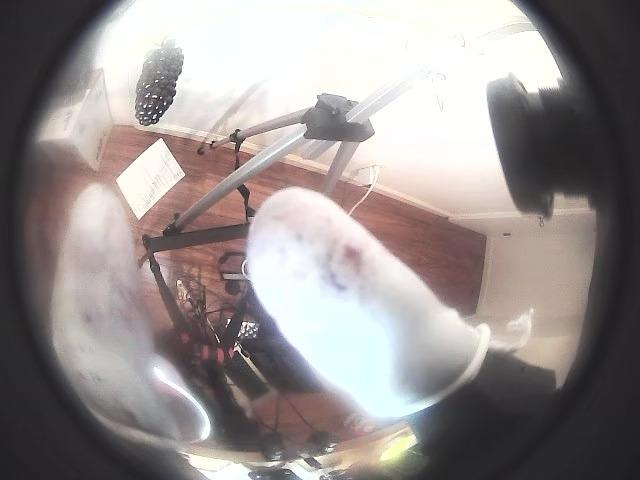berry: (135, 47, 181, 124)
gripper: (246, 187, 495, 423), (23, 157, 210, 447)
lense: (432, 0, 639, 479), (0, 0, 182, 479)
